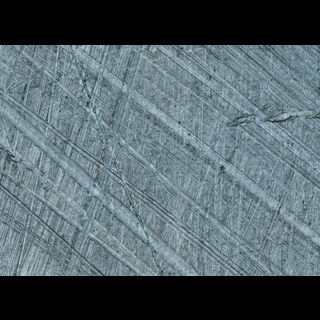d: (222, 99, 319, 131)
